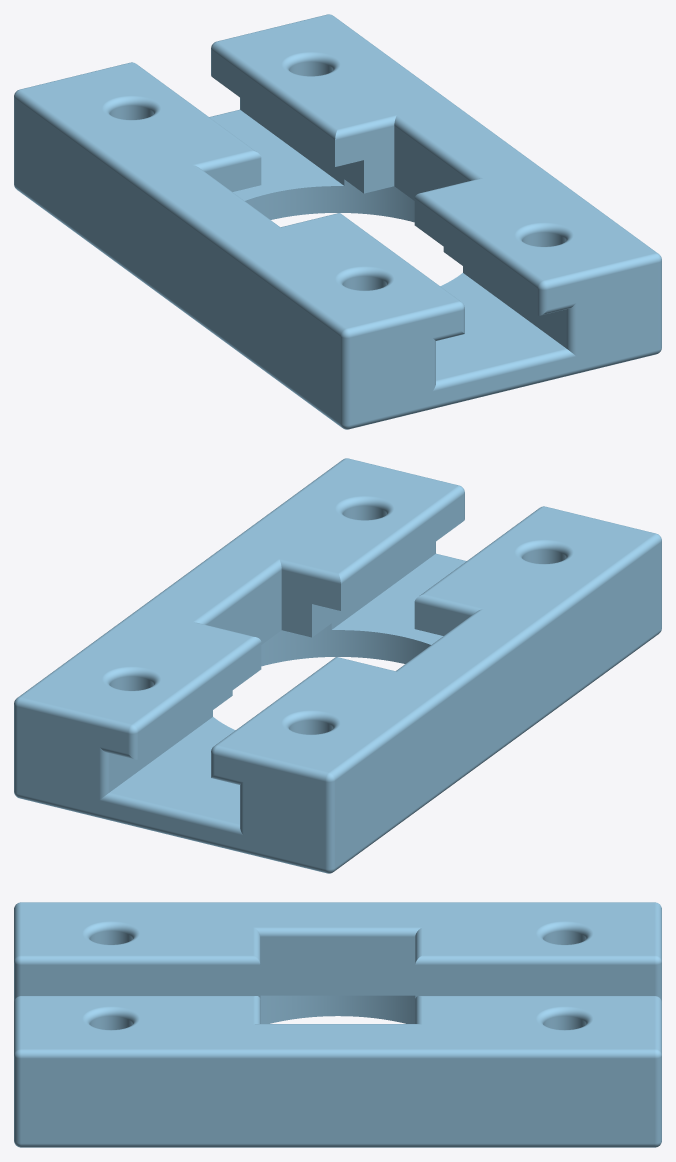
File: gripper.dae
3 views of the same model, one above another, from view 1: azimuth 30°, elevation 25°; view 2: azimuth 150°, elevation 25°; view 3: azimuth 270°, elevation 25° (orthographic). The views are drawn at different scales.
Parts seen in each view (by area): view 1: ID2; view 2: ID2; view 3: ID2.
Boxes of the visible parts, box(x1,y1,x2,y2) form: ID2: box(14, 14, 661, 429); ID2: box(14, 458, 661, 873); ID2: box(14, 902, 661, 1147).
Bounding box in the file's own units: 0.05 × 0.09 × 0.015.
